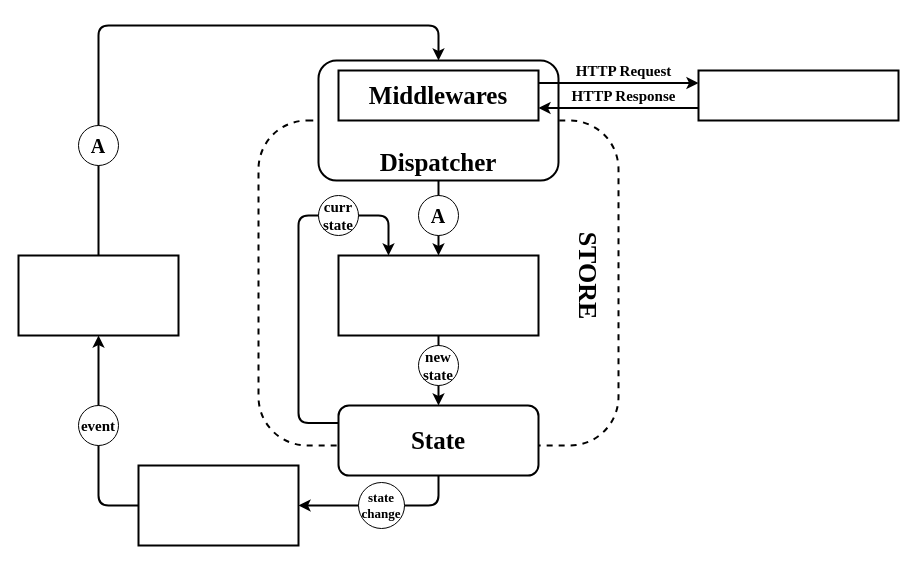
Image size: 916x563. Some labels were removed from this diagram. The shapes that lost their labels are listed below. From the top down, each one's centre as x and y in pixels, then its label:
At point 798,95: "RESTful API".
At point 98,295: "Actions".
At point 438,295: "Reducers".
At point 218,505: "View".
